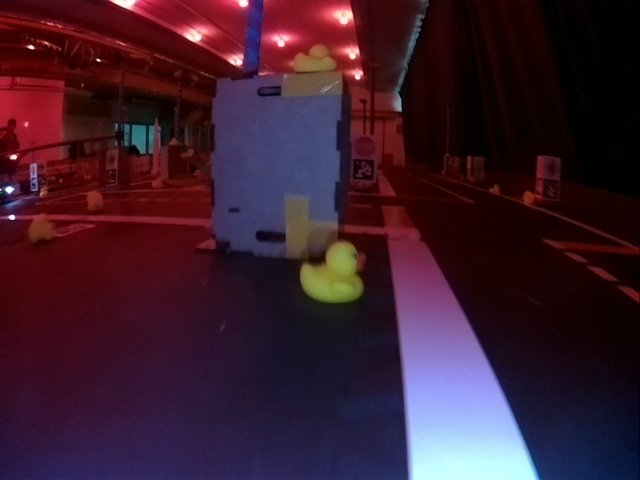Duckie: (302, 243, 366, 301), (294, 44, 337, 71)
QR code: (54, 222, 94, 237), (353, 159, 375, 181), (108, 170, 116, 182)
Stop sign: (351, 135, 376, 157)
